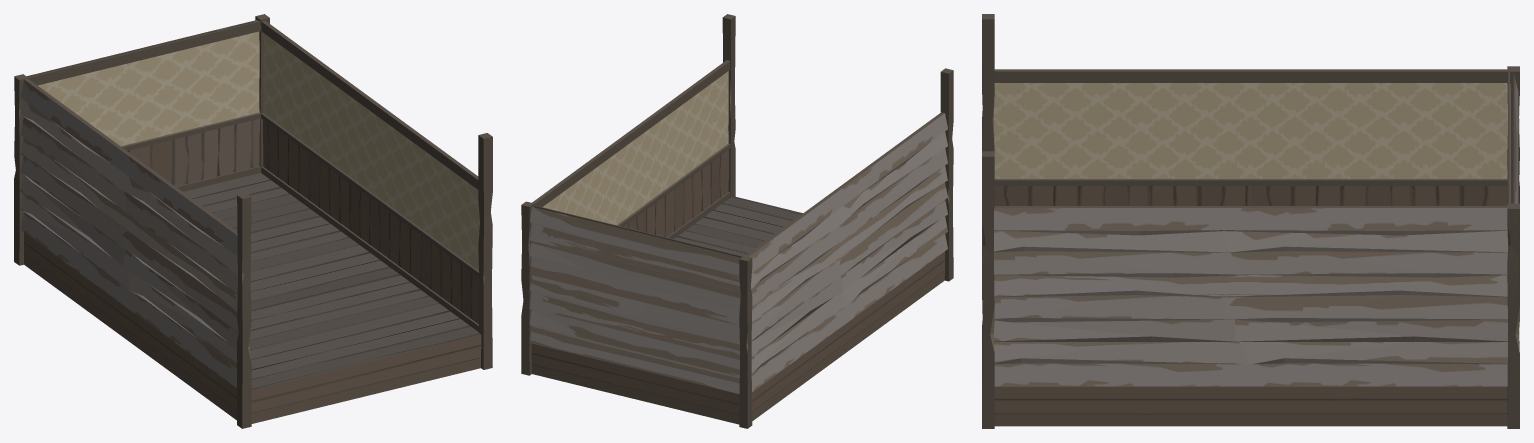
File: SM_Bld_Single_01.fbx
3 renders of one model, left to right at view 1: azimuth 30°, elevation 25°; view 2: azimuth 150°, elevation 25°; view 3: azimuth 270°, elevation 25°, orthographic. The views are drawn at different scales.
Parts seen in each view (by area): view 1: SM_Bld_Single_01; view 2: SM_Bld_Single_01; view 3: SM_Bld_Single_01.
Boxes of the visible parts, x1=… form: SM_Bld_Single_01: x1=14, y1=14, x2=492, y2=428; SM_Bld_Single_01: x1=521, y1=14, x2=953, y2=428; SM_Bld_Single_01: x1=982, y1=14, x2=1519, y2=428.
Bounding box in the file's own units: 519 × 458 × 819.
